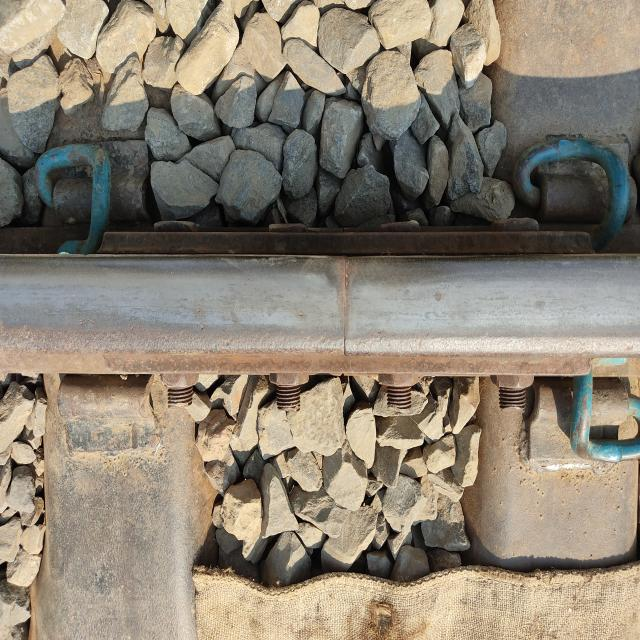fault: (46, 370, 169, 473)
